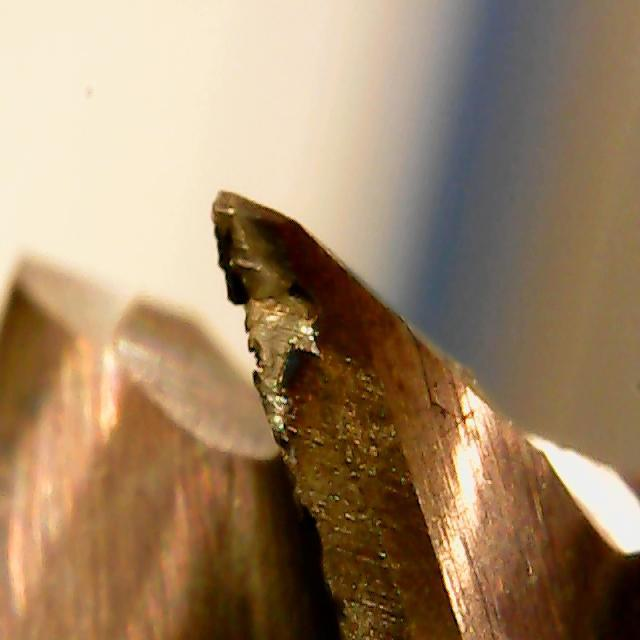Tool-wear-class-3: (201, 148, 370, 442)
